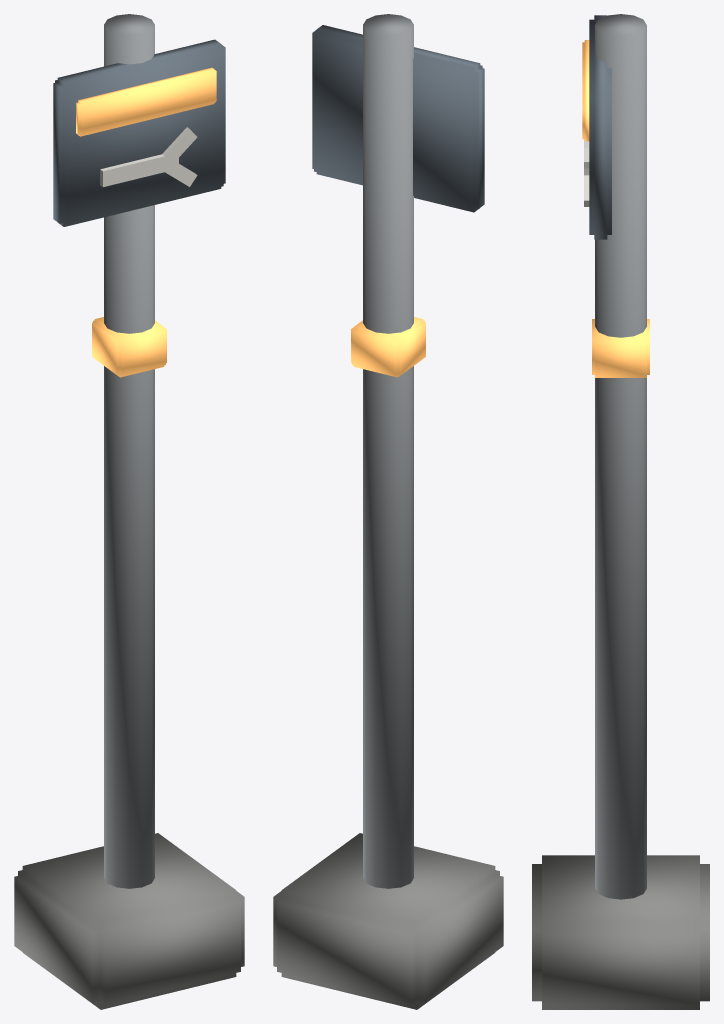
File: patrol_marker_post.glb
3 views of the same model, side by side, from view 1: azimuth 30°, elevation 25°; view 2: azimuth 150°, elevation 25°; view 3: azimuth 270°, elevation 25° (orthographic).
Visible parts, largest first — view 1: SteelPole, ConcreteBase, EnamelPlaque, ReflectiveStrip, ReflectiveBandLow, ArrowStem, ArrowHeadTop; view 2: SteelPole, ConcreteBase, EnamelPlaque, ReflectiveBandLow; view 3: SteelPole, ConcreteBase, EnamelPlaque, ReflectiveBandLow, ReflectiveStrip.
Boxes of the visible parts, x1,y1,x2,y2 form: SteelPole: (104, 14, 154, 888); ConcreteBase: (14, 833, 244, 1009); EnamelPlaque: (53, 39, 225, 226); ReflectiveStrip: (76, 67, 216, 136); ReflectiveBandLow: (92, 317, 166, 377); ArrowStem: (100, 154, 178, 186); ArrowHeadTop: (160, 127, 197, 168); SteelPole: (363, 14, 413, 888); ConcreteBase: (273, 833, 503, 1009); EnamelPlaque: (312, 25, 484, 212); ReflectiveBandLow: (351, 317, 425, 377); SteelPole: (595, 14, 646, 899); ConcreteBase: (532, 855, 709, 1009); EnamelPlaque: (589, 15, 611, 239); ReflectiveBandLow: (592, 319, 649, 377); ReflectiveStrip: (582, 40, 589, 141).
Bounding box in the file's own units: 0.24 × 1.3 × 0.22.
